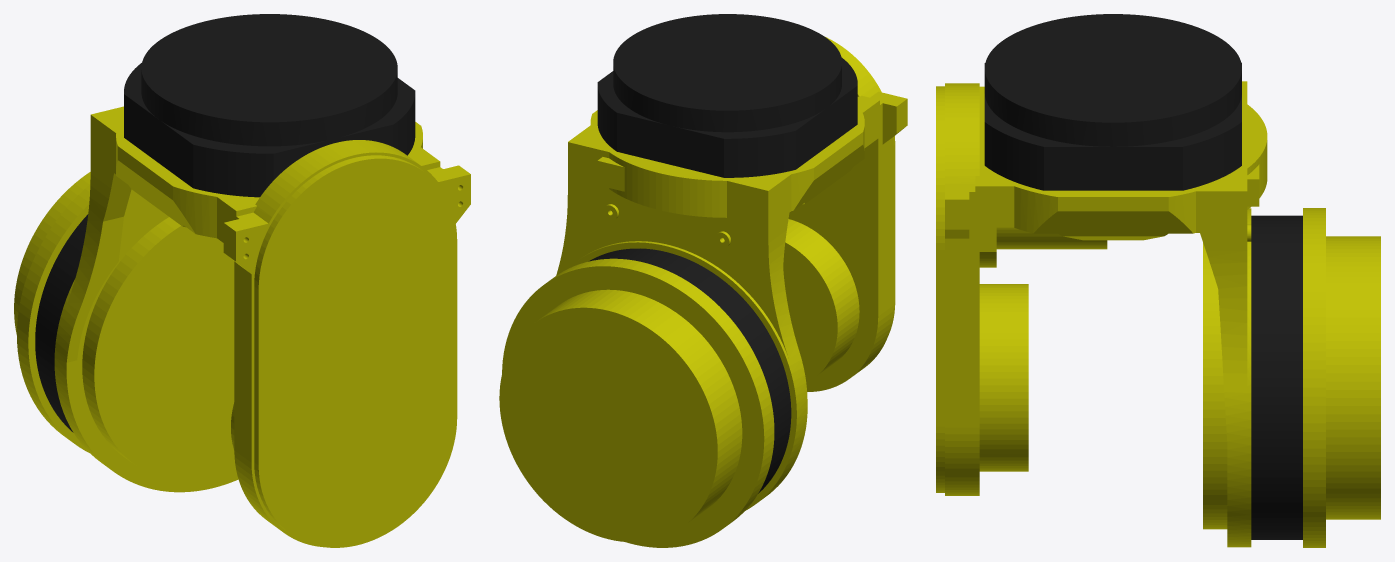
3 renders of one model, left to right at view 1: azimuth 30°, elevation 25°; view 2: azimuth 150°, elevation 25°; view 3: azimuth 270°, elevation 25°, orthographic. The views are drawn at different scales.
Parts seen in each view (by area): view 1: node; view 2: node; view 3: node.
Boxes of the visible parts, x1,y1,x2,y2 form: node: [14, 14, 470, 547]; node: [499, 14, 907, 547]; node: [936, 14, 1380, 547].
Size of the model in its own units: 562 by 845 by 735.
